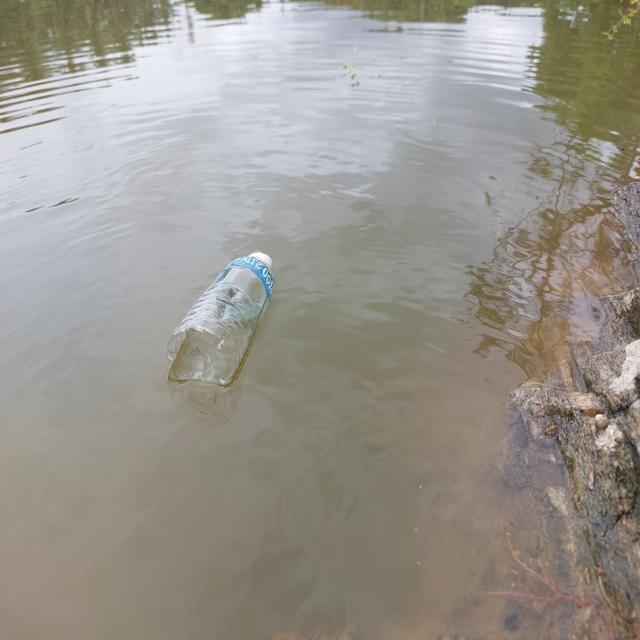waterbottle: (150, 229, 289, 365)
